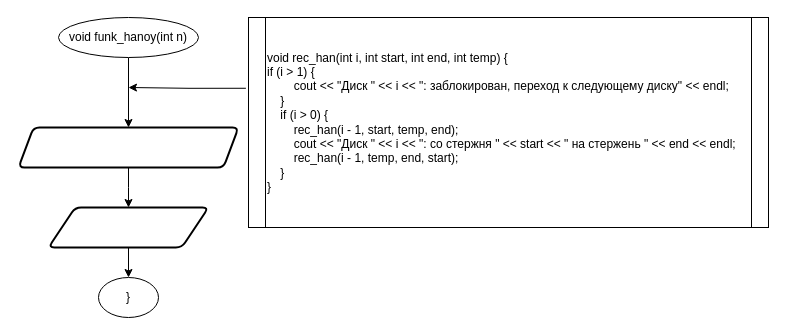
This 786x335 diagram has some shape labels left out. Here are the shapes that lost their labels. From the top down, the centre of each, then its label:
the point at 128,147: cout << "Вариант перемещения дисков: " << endl;
the point at 128,227: rec_han(n, 1, 2, 3);
